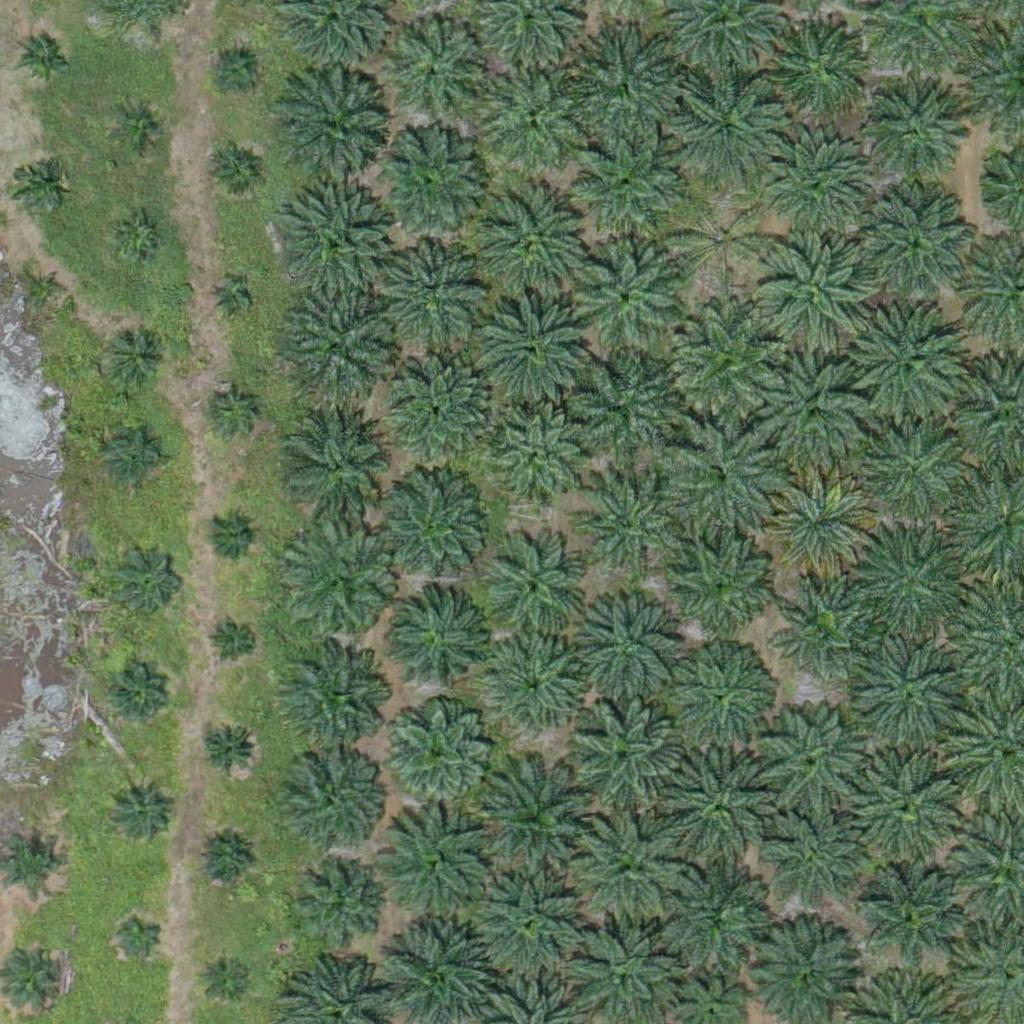Kelapa_Sawit: (477, 758, 602, 884), (472, 866, 585, 980), (382, 811, 495, 925), (860, 187, 973, 301), (380, 696, 493, 810), (284, 528, 397, 642), (663, 751, 776, 864), (649, 852, 762, 965), (848, 304, 961, 417), (281, 187, 394, 300), (282, 289, 395, 402), (282, 404, 395, 517), (478, 59, 591, 172), (565, 352, 678, 465), (573, 244, 686, 357), (569, 127, 682, 240), (563, 29, 676, 142), (669, 305, 782, 418), (763, 470, 876, 583), (760, 703, 873, 816), (665, 423, 778, 536), (661, 528, 774, 641), (374, 473, 487, 586), (764, 135, 876, 249), (277, 647, 389, 761), (574, 810, 686, 923), (860, 414, 972, 527), (850, 523, 962, 636), (850, 634, 962, 747), (849, 746, 961, 859), (279, 76, 391, 189), (376, 125, 488, 238), (383, 10, 495, 123), (481, 183, 593, 296), (477, 290, 589, 403), (671, 70, 783, 183), (756, 354, 868, 467), (757, 232, 869, 345), (573, 468, 685, 581), (569, 700, 681, 813), (672, 192, 772, 293), (859, 870, 959, 971), (392, 356, 492, 457), (388, 242, 488, 343), (489, 410, 589, 511), (671, 648, 771, 749), (578, 593, 678, 694), (486, 542, 586, 643), (283, 745, 383, 846), (767, 19, 867, 119), (866, 77, 966, 177), (487, 635, 587, 735), (391, 589, 491, 689), (293, 862, 381, 950), (781, 585, 868, 674), (768, 817, 855, 905), (111, 541, 186, 616), (9, 945, 72, 1008), (107, 668, 170, 731), (197, 718, 260, 781), (107, 328, 169, 391), (106, 425, 168, 488), (108, 779, 170, 842), (194, 830, 256, 893), (16, 26, 78, 89), (209, 385, 259, 436), (200, 947, 250, 998), (115, 909, 165, 960), (205, 509, 255, 560), (11, 157, 61, 207), (113, 213, 163, 263), (114, 104, 164, 154), (209, 617, 259, 667), (211, 45, 261, 95), (212, 148, 262, 198), (28, 271, 66, 309), (211, 280, 249, 318)
